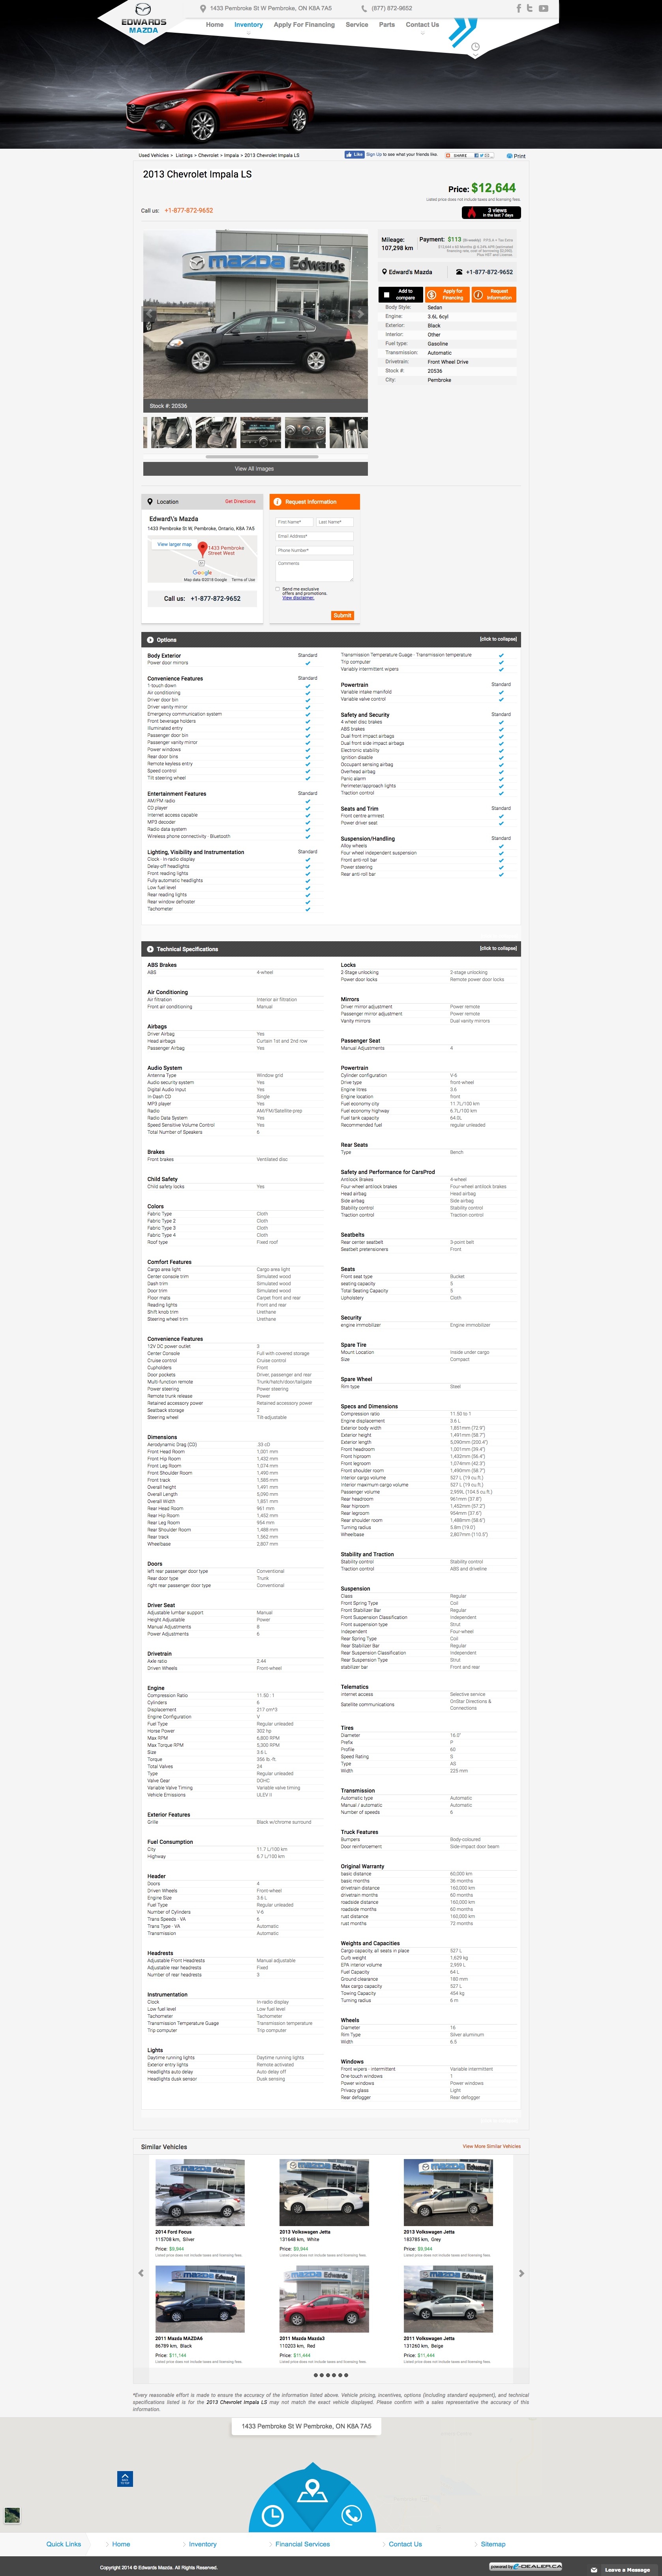car: (352, 306, 368, 322)
